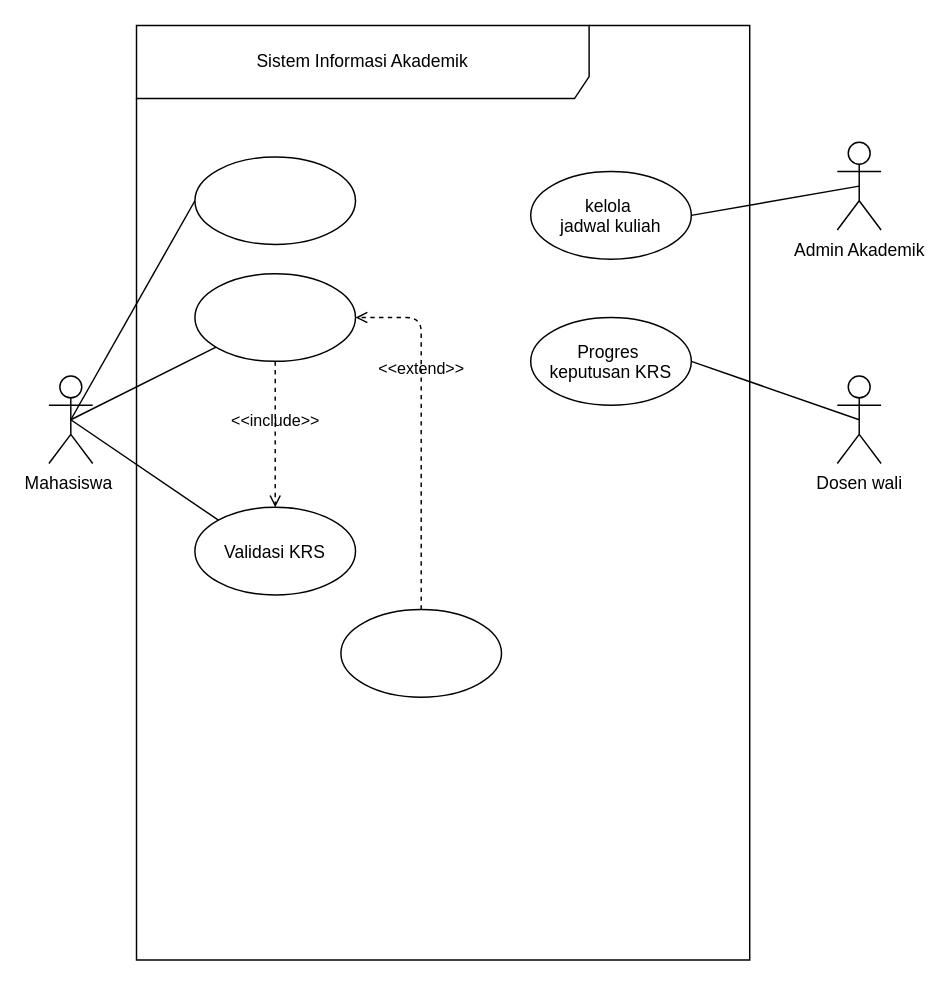
This 949x986 diagram has some shape labels left out. Each missing label, with the centre of its shape:
ajukan KRS: (x=274, y=316)
Lihat jadwal kuliah: (x=274, y=200)
unduh bukti pengajuan KRS: (x=420, y=652)
